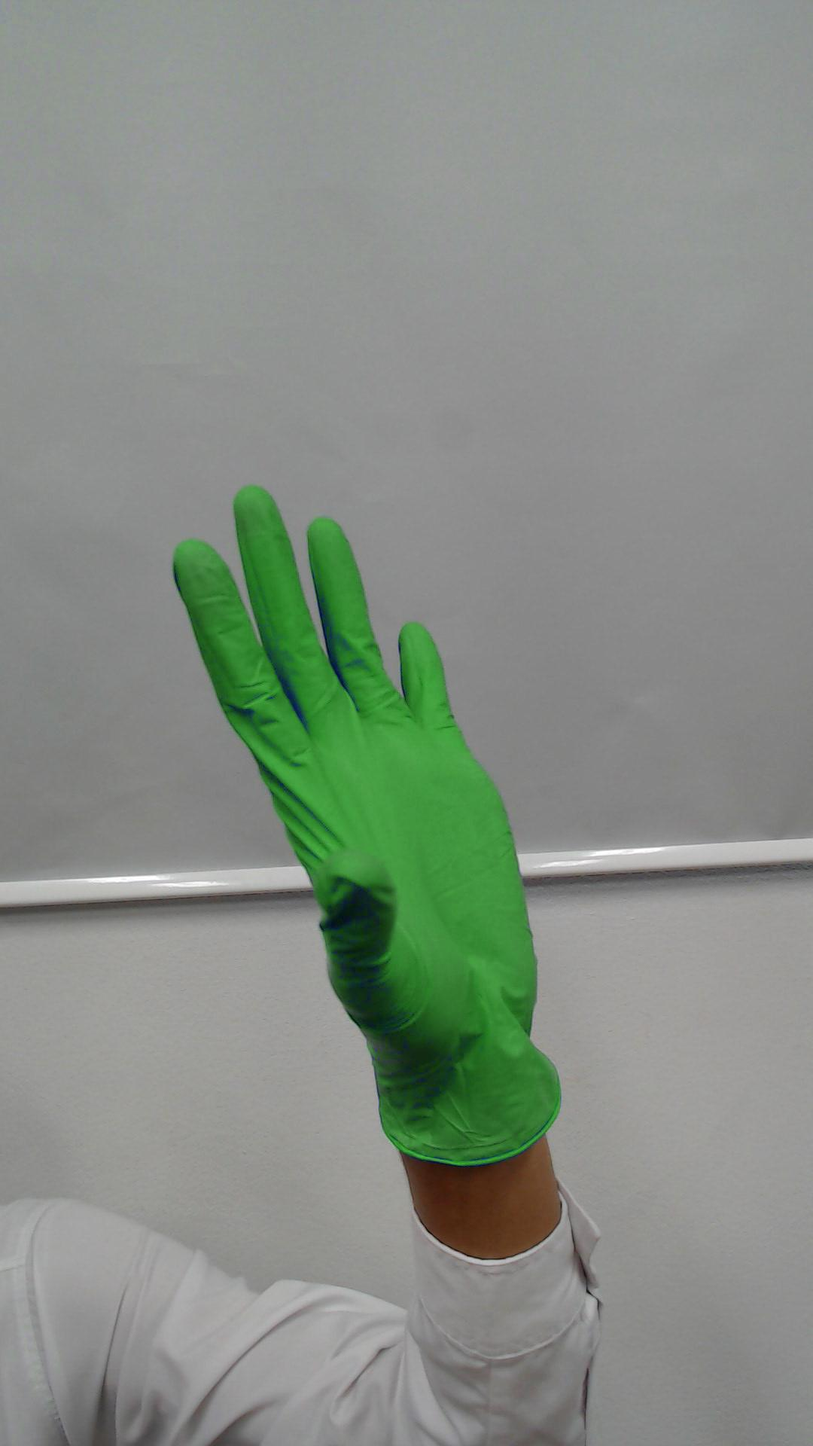gloves: (159, 467, 554, 1036)
